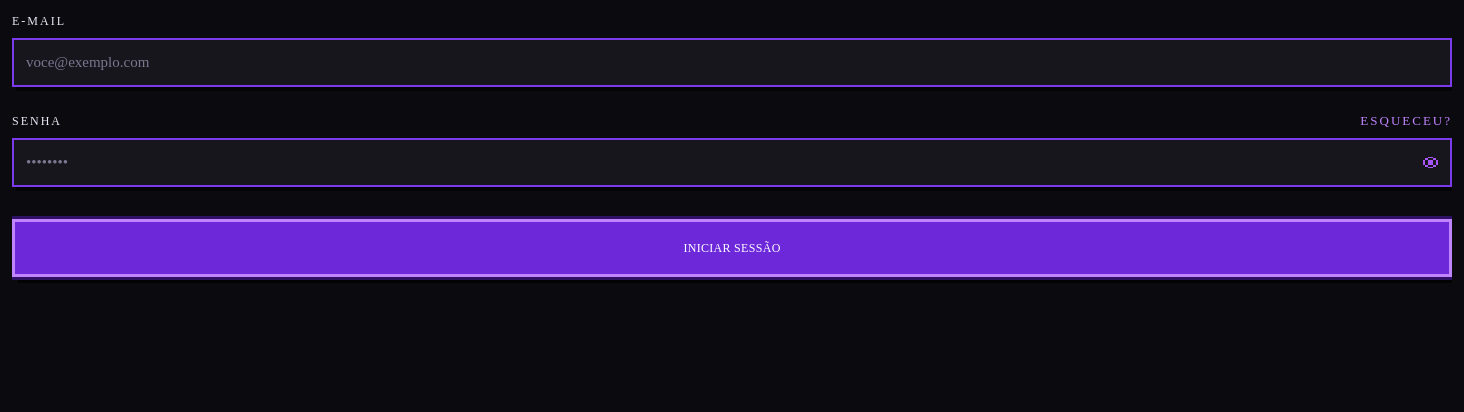
FormularioLogin › credencial errada mostra a mensagem genérica do servidor
Step 1. Type "pendente@exemplo.com" into the field labelled "E-MAIL" → (732, 62), box x1=26 y1=40 x2=1438 y2=84
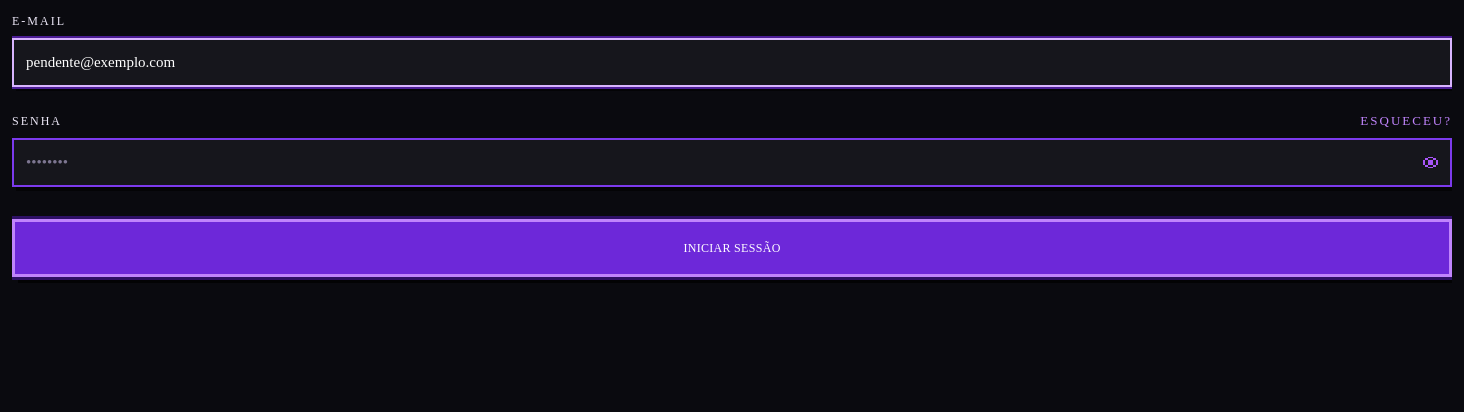
Step 2. Type "trilha-de-python-8" into the password field labelled "SENHA" → (720, 162), box x1=26 y1=140 x2=1415 y2=184
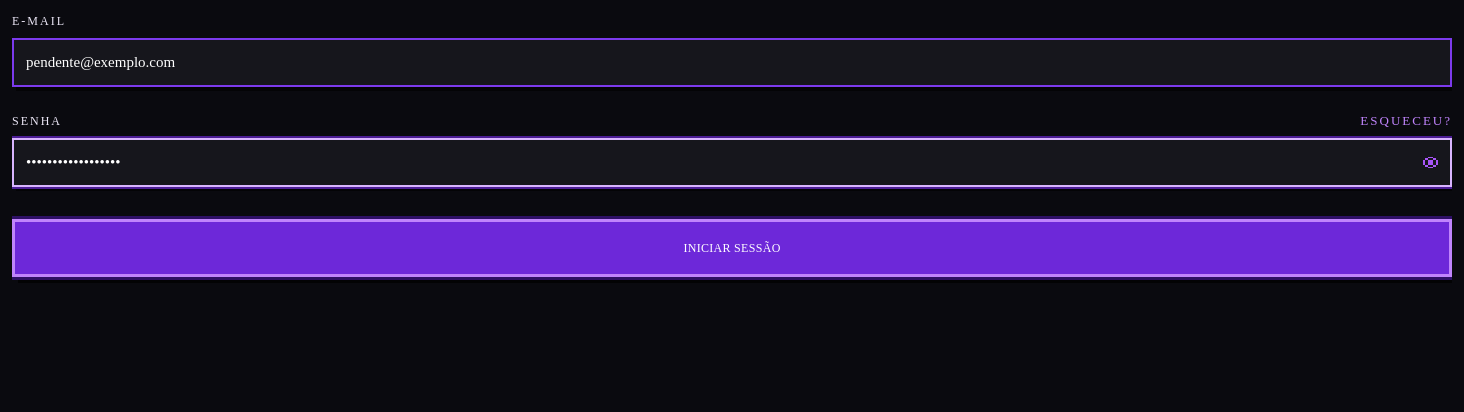
Step 3. Click the button "INICIAR SESSÃO" → (732, 248), box x1=12 y1=218 x2=1452 y2=277
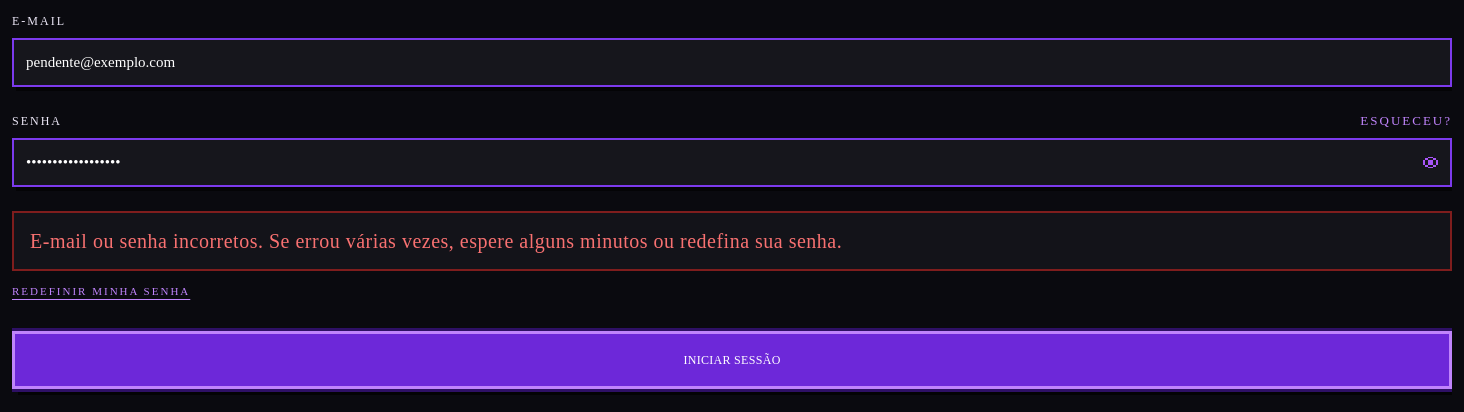
Expected: the text "E-mail ou senha incorretos. Se errou várias vezes, espere alguns minutos ou redefina sua senha." is shown, x1=30 y1=230 x2=842 y2=252
